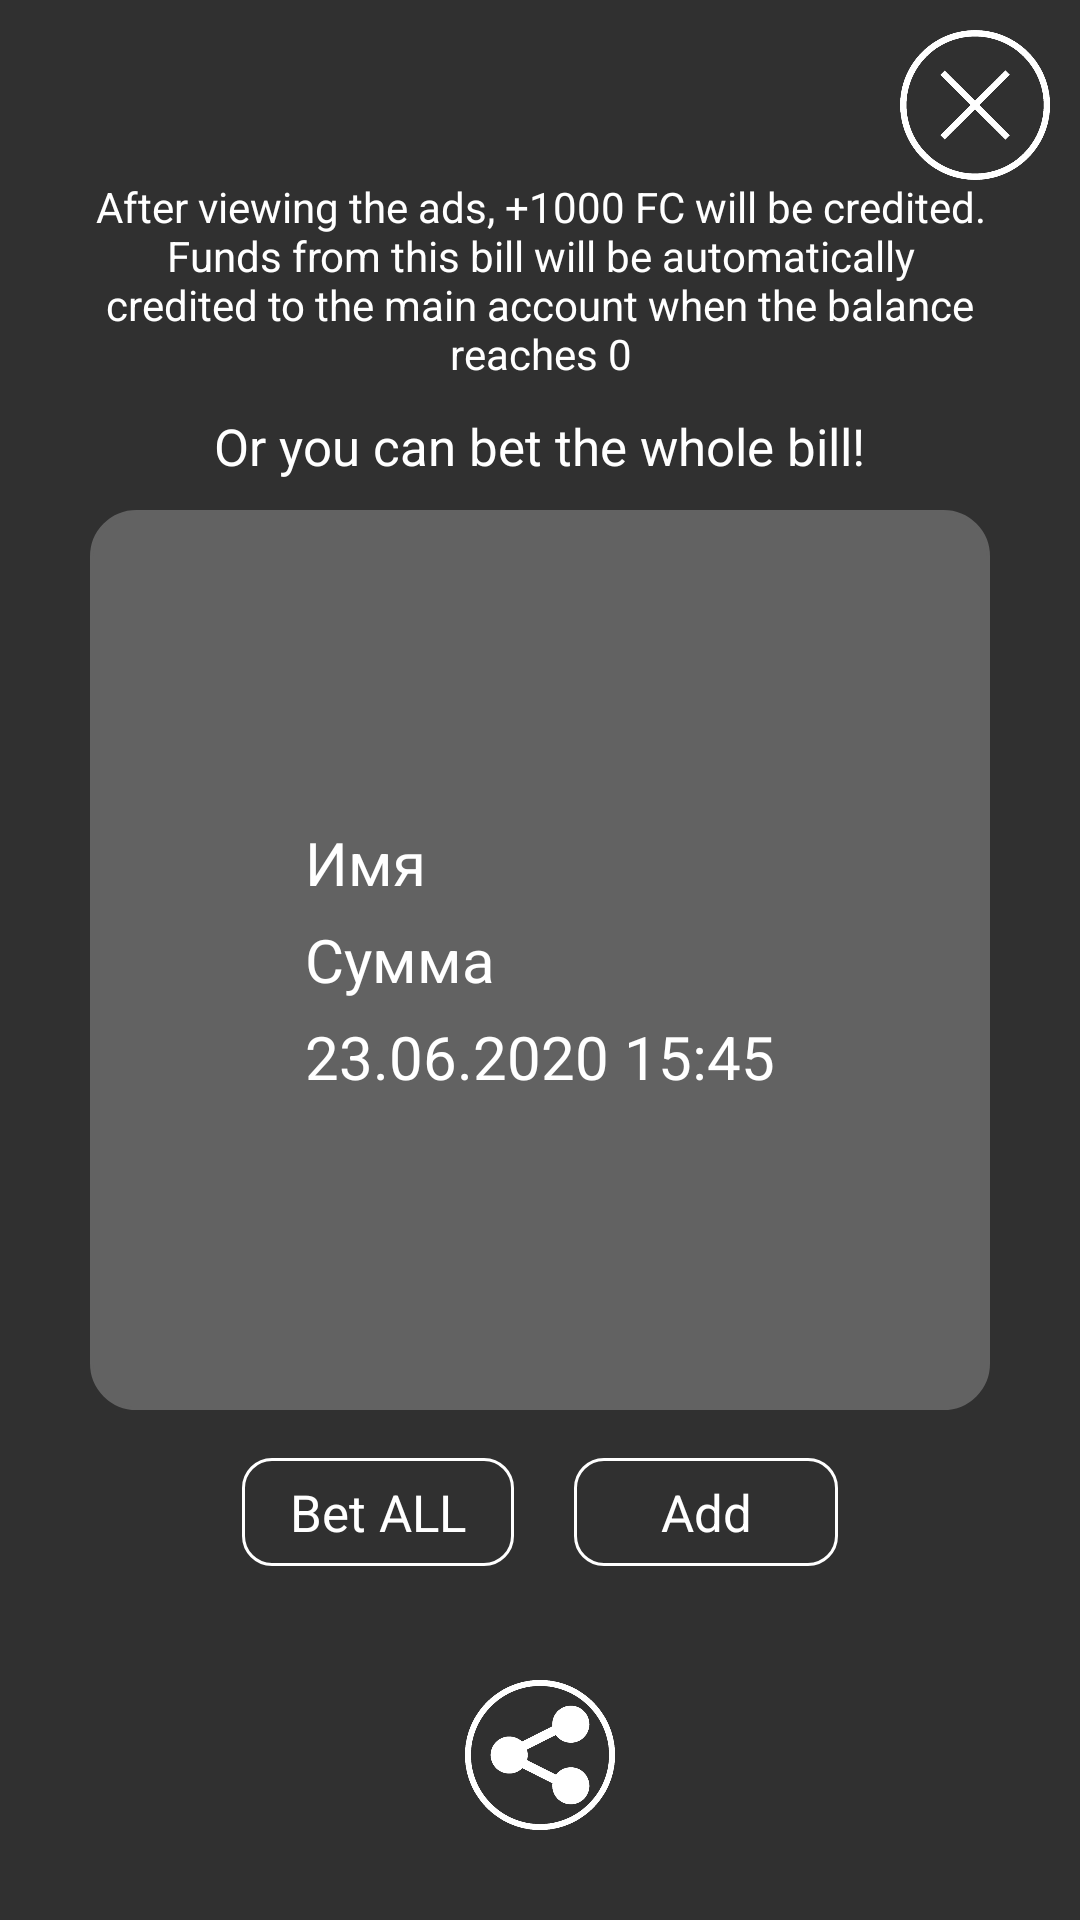

Where icons sit on this 1080x1920 app screen, as (x1, y1, x2, y2):
close: (900, 30, 1050, 180)
share: (465, 1680, 615, 1830)
